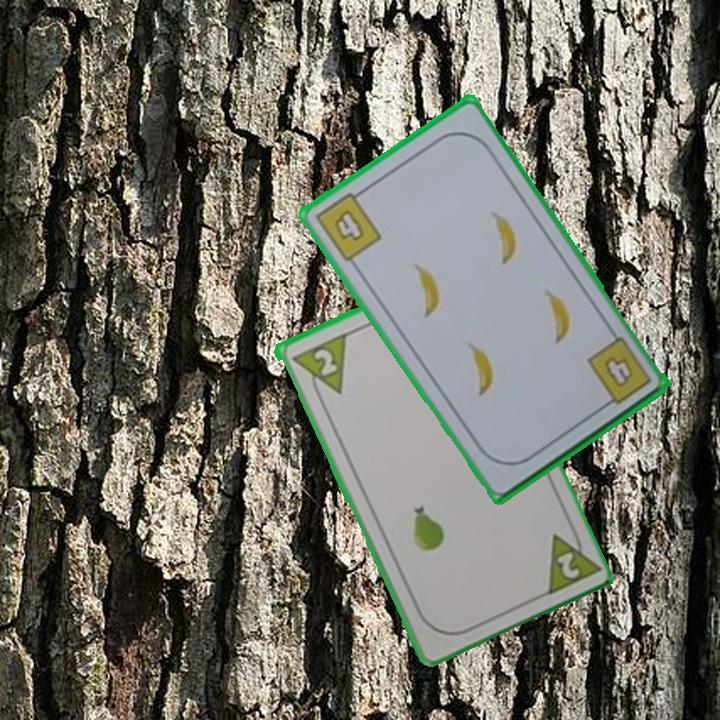2p: (539, 521, 601, 599), (287, 330, 349, 405)
4b: (311, 185, 385, 265), (583, 333, 655, 412)
